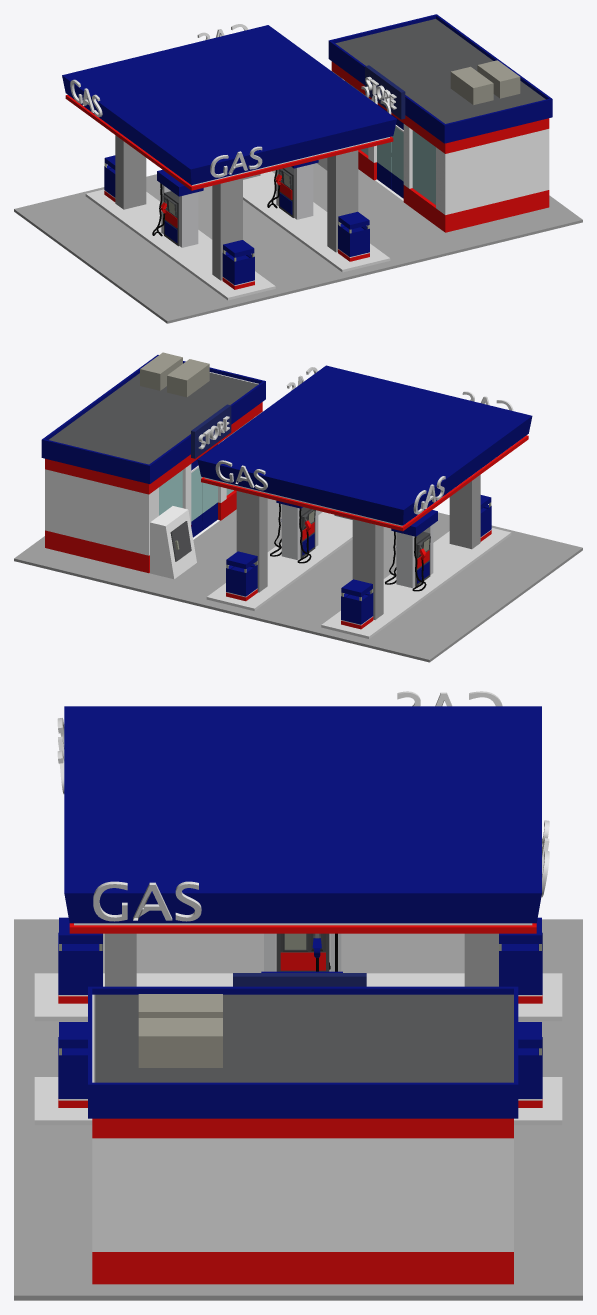
The model's file is Gasolinera.fbx.
The picture shows the model from 3 angles, top to bottom: view 1: azimuth 30°, elevation 25°; view 2: azimuth 150°, elevation 25°; view 3: azimuth 270°, elevation 25°; orthographic projection. The views are drawn at different scales.
Visible parts, largest first — view 1: pCube49, pCube48, pCube1, pCube46, pCube50, pCube45, pCube52, pCube51, pCube72, pCube53, pCube69, pCube71 (+7 smaller); view 2: pCube49, pCube48, pCube1, pCube46, pCube50, pCube58, pCube45, pCube54, pCube53, pCube72, pCube51, pCube65 (+8 smaller); view 3: pCube48, pCube49, pCube1, pCube46, pCube55, pCube50, pCube69, pCube45, pCube65, pCube71, pCube70, pCube56 (+4 smaller).
Boxes of the visible parts, left/top/right/bottom form: pCube49: left=62, top=25, right=396, bottom=190; pCube48: left=328, top=14, right=552, bottom=232; pCube1: left=14, top=163, right=582, bottom=323; pCube46: left=85, top=189, right=275, bottom=300; pCube50: left=243, top=171, right=390, bottom=272; pCube45: left=152, top=170, right=203, bottom=247; pCube52: left=327, top=150, right=358, bottom=252; pCube51: left=212, top=178, right=242, bottom=280; pCube72: left=267, top=160, right=318, bottom=219; pCube53: left=115, top=135, right=146, bottom=209; pCube69: left=222, top=240, right=254, bottom=289; pCube71: left=338, top=211, right=369, bottom=261; pCube49: left=197, top=365, right=532, bottom=531; pCube48: left=41, top=355, right=265, bottom=573; pCube1: left=14, top=498, right=582, bottom=662; pCube46: left=321, top=528, right=511, bottom=638; pCube50: left=206, top=512, right=352, bottom=610; pCube58: left=150, top=506, right=196, bottom=579; pCube45: left=385, top=510, right=437, bottom=591; pCube54: left=236, top=491, right=267, bottom=592; pCube53: left=352, top=519, right=383, bottom=619; pCube72: left=270, top=500, right=318, bottom=563; pCube51: left=449, top=475, right=480, bottom=549; pCube65: left=341, top=579, right=373, bottom=629; pCube48: left=88, top=986, right=518, bottom=1284; pCube49: left=64, top=706, right=541, bottom=933; pCube1: left=14, top=919, right=582, bottom=1300; pCube46: left=34, top=973, right=562, bottom=1021; pCube55: left=138, top=1018, right=222, bottom=1067; pCube50: left=34, top=1077, right=562, bottom=1125; pCube69: left=58, top=917, right=102, bottom=1003; pCube45: left=264, top=933, right=341, bottom=971; pCube65: left=499, top=917, right=542, bottom=1003; pCube71: left=58, top=1022, right=87, bottom=1107; pCube70: left=518, top=1022, right=542, bottom=1107; pCube56: left=138, top=994, right=222, bottom=1017.
Size of the model in its own units: 4 by 1.31 by 2.55.
12 materials, 5 textured.
